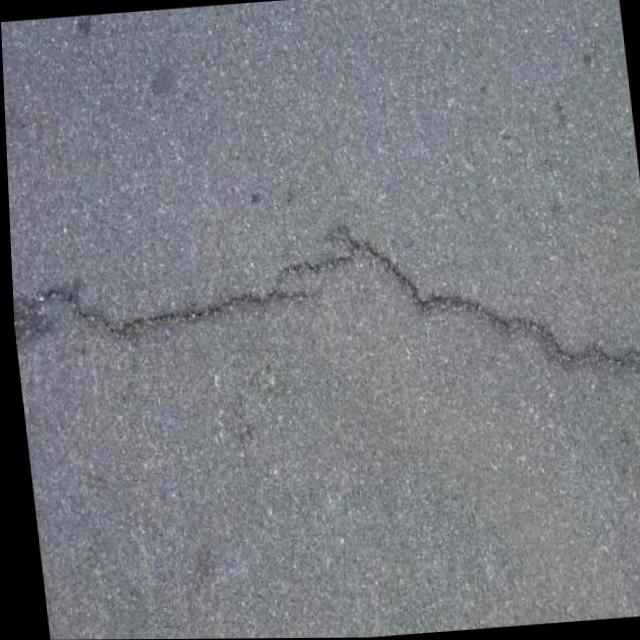Crack: (7, 195, 640, 438)
